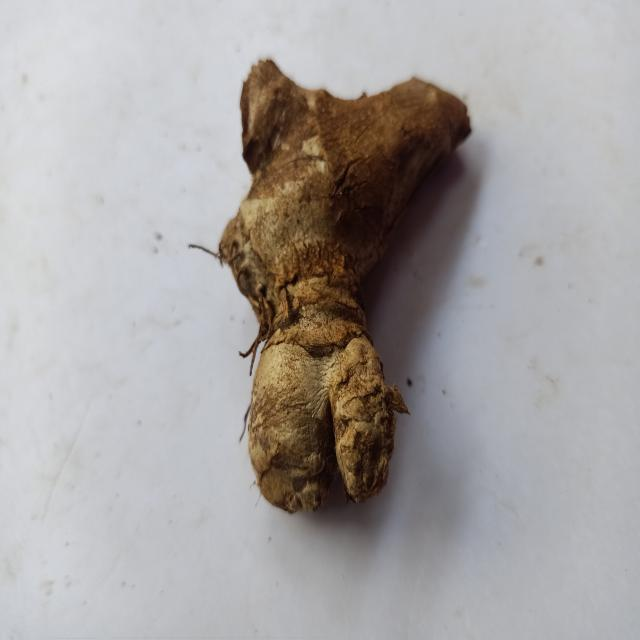Ginger: (215, 59, 471, 513)
